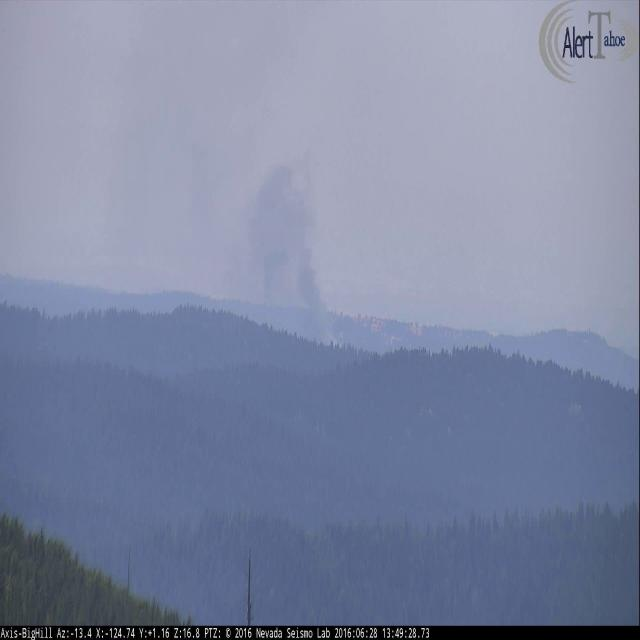smoke: (184, 125, 345, 346)
